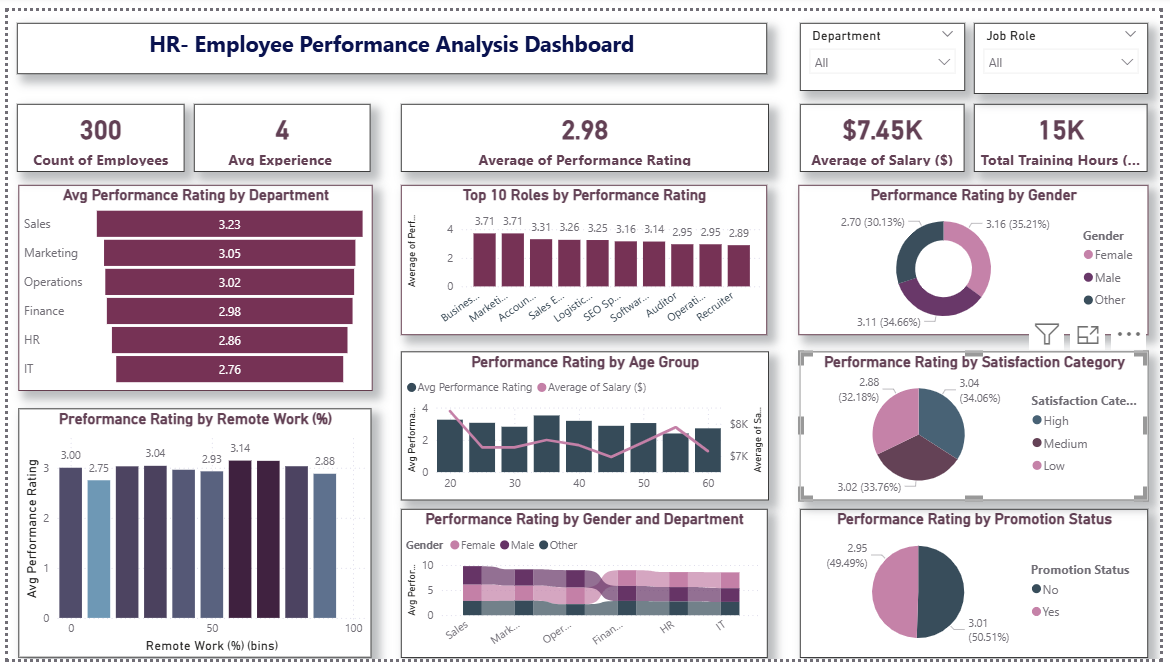

What the dashboard file says about the page in this screenshot:
{"tool":"powerbi","page":{"name":"Page 1","canvas":[1280,720],"ordinal":0},"visuals":[{"type":"textbox","box":[10,13.3,833.3,56.7],"z":0},{"type":"funnel","title":"Avg Performance Rating by Department","fields":{"Category":["hrdata.Department"],"Y":["Avg(hrdata.Performance Rating)"]},"box":[11.7,193.3,393.3,228.3],"z":1000},{"type":"card","fields":{"Values":["CountNonNull(hrdata.Employee ID)"]},"box":[9.7,103.6,186.2,75],"z":2000},{"type":"card","fields":{"Values":["Avg(hrdata.Experience (Years))"]},"box":[207.3,103.6,195.9,75],"z":3000},{"type":"columnChart","title":"Top 10 Roles by Performance Rating","fields":{"Category":["hrdata.Job Role"],"Y":["Avg(hrdata.Performance Rating)"]},"box":[436.7,193.3,406.7,166.7],"z":4000},{"type":"card","fields":{"Values":["Avg(hrdata.Performance Rating)"]},"box":[436.7,103.3,408.3,75],"z":5000},{"type":"donutChart","title":"Performance Rating by Gender","fields":{"Category":["hrdata.Gender"],"Y":["Avg(hrdata.Performance Rating)"]},"box":[878.3,193.3,388.3,166.7],"z":7000},{"type":"card","fields":{"Values":["Avg(hrdata.Salary ($))"]},"box":[879.2,103.6,183,75],"z":8000},{"type":"card","fields":{"Values":["Sum(hrdata.Training Hours (Per Year))"]},"box":[1073.5,103.6,192.7,75],"z":9000},{"type":"lineStackedColumnComboChart","title":"Performance Rating by Age Group","fields":{"Category":["hrdata.Age (bins)"],"Y":["hrdata.Avg Performance Rating"],"Y2":["Avg(hrdata.Salary ($))"]},"box":[436.7,378.3,408.3,165],"z":10000},{"type":"pieChart","title":"Performance Rating by Satisfaction Category","fields":{"Category":["hrdata.Satisfaction Category"],"Y":["hrdata.Avg Performance Rating"]},"box":[880,378.3,386.7,165],"z":11000},{"type":"pieChart","title":"Performance Rating by Promotion Status","fields":{"Category":["hrdata.Promotion Status"],"Y":["hrdata.Avg Performance Rating"]},"box":[880,553.3,386.7,165],"z":12000},{"type":"columnChart","title":"Preformance Rating by Remote Work (%) ","fields":{"Y":["hrdata.Avg Performance Rating"],"Category":["hrdata.Remote Work (%) (bins)"]},"box":[11.7,441.7,391.7,276.7],"z":13000},{"type":"ribbonChart","title":"Performance Rating by Gender and Department","fields":{"Category":["hrdata.Department"],"Y":["hrdata.Avg Performance Rating"],"Series":["hrdata.Gender"]},"box":[437,553,407,165],"z":14000},{"type":"slicer","fields":{"Values":["hrdata.Department"]},"box":[880,13.3,183.3,75],"z":15000},{"type":"slicer","fields":{"Values":["hrdata.Job Role"]},"box":[1073.3,13.3,193.3,78.3],"z":15001}]}

Visuals, with their boxes in screenshot pixels (x1, y1, x2, y2), scaled from the page's 1280x720 canvas onto the 1170x668 screenshot:
textbox: (x1=9, y1=12, x2=771, y2=65)
"Avg Performance Rating by Department" funnel: (x1=11, y1=179, x2=370, y2=391)
card - CountNonNull(hrdata.Employee ID): (x1=9, y1=96, x2=179, y2=166)
card - Avg(hrdata.Experience (Years)): (x1=189, y1=96, x2=369, y2=166)
"Top 10 Roles by Performance Rating" columnChart: (x1=399, y1=179, x2=771, y2=334)
card - Avg(hrdata.Performance Rating): (x1=399, y1=96, x2=772, y2=165)
"Performance Rating by Gender" donutChart: (x1=803, y1=179, x2=1158, y2=334)
card - Avg(hrdata.Salary ($)): (x1=804, y1=96, x2=971, y2=166)
card - Sum(hrdata.Training Hours (Per Year)): (x1=981, y1=96, x2=1157, y2=166)
"Performance Rating by Age Group" lineStackedColumnComboChart: (x1=399, y1=351, x2=772, y2=504)
"Performance Rating by Satisfaction Category" pieChart: (x1=804, y1=351, x2=1158, y2=504)
"Performance Rating by Promotion Status" pieChart: (x1=804, y1=513, x2=1158, y2=666)
"Preformance Rating by Remote Work (%) " columnChart: (x1=11, y1=410, x2=369, y2=667)
"Performance Rating by Gender and Department" ribbonChart: (x1=399, y1=513, x2=771, y2=666)
slicer - hrdata.Department: (x1=804, y1=12, x2=972, y2=82)
slicer - hrdata.Job Role: (x1=981, y1=12, x2=1158, y2=85)
